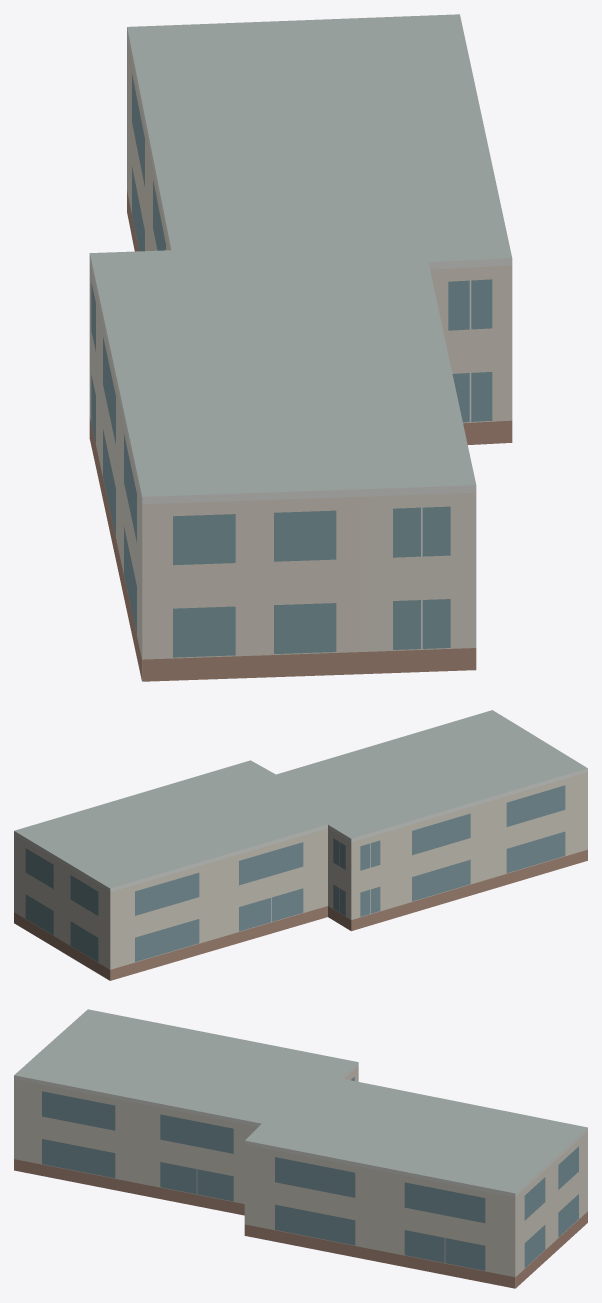
Rendered from survey-upis-32606951.glb.
3 renders of one model, top to bottom at view 1: azimuth 30°, elevation 25°; view 2: azimuth 150°, elevation 25°; view 3: azimuth 270°, elevation 25°, orthographic. The views are drawn at different scales.
Visible parts, largest first — view 1: survey-upis-32606951.tmp; view 2: survey-upis-32606951.tmp; view 3: survey-upis-32606951.tmp.
Boxes of the visible parts, bbox=[...] form: survey-upis-32606951.tmp: bbox=[89, 14, 512, 681]; survey-upis-32606951.tmp: bbox=[14, 710, 587, 980]; survey-upis-32606951.tmp: bbox=[14, 1009, 587, 1288].
Size of the model in its own units: 25.32 by 6.1 by 33.33.
